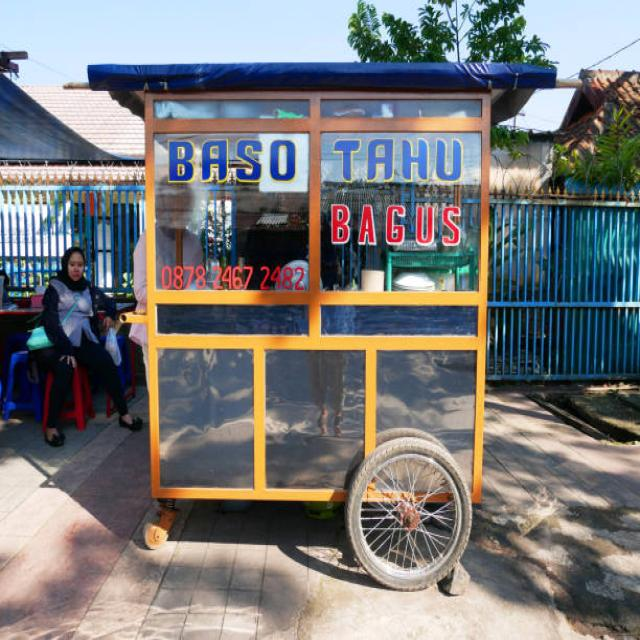Emperan: (64, 0, 570, 607)
